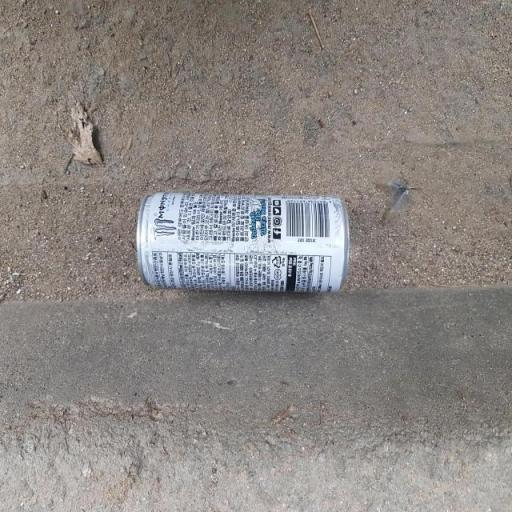metal: (102, 160, 389, 342)
